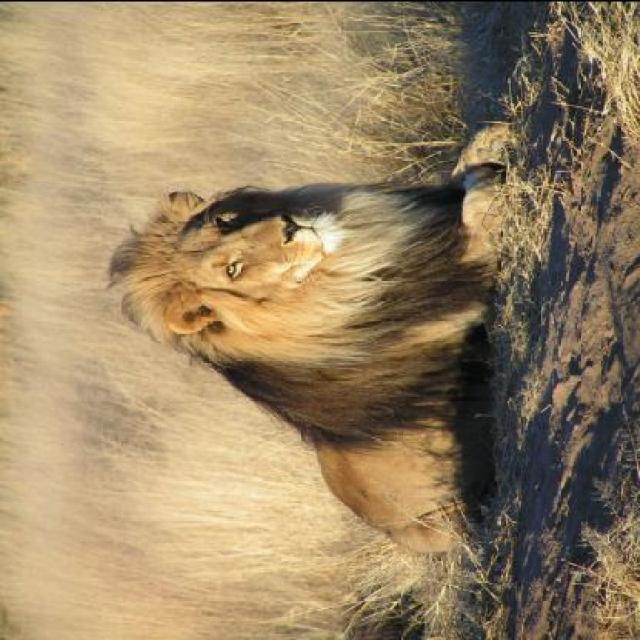Lion: (97, 91, 534, 586)
